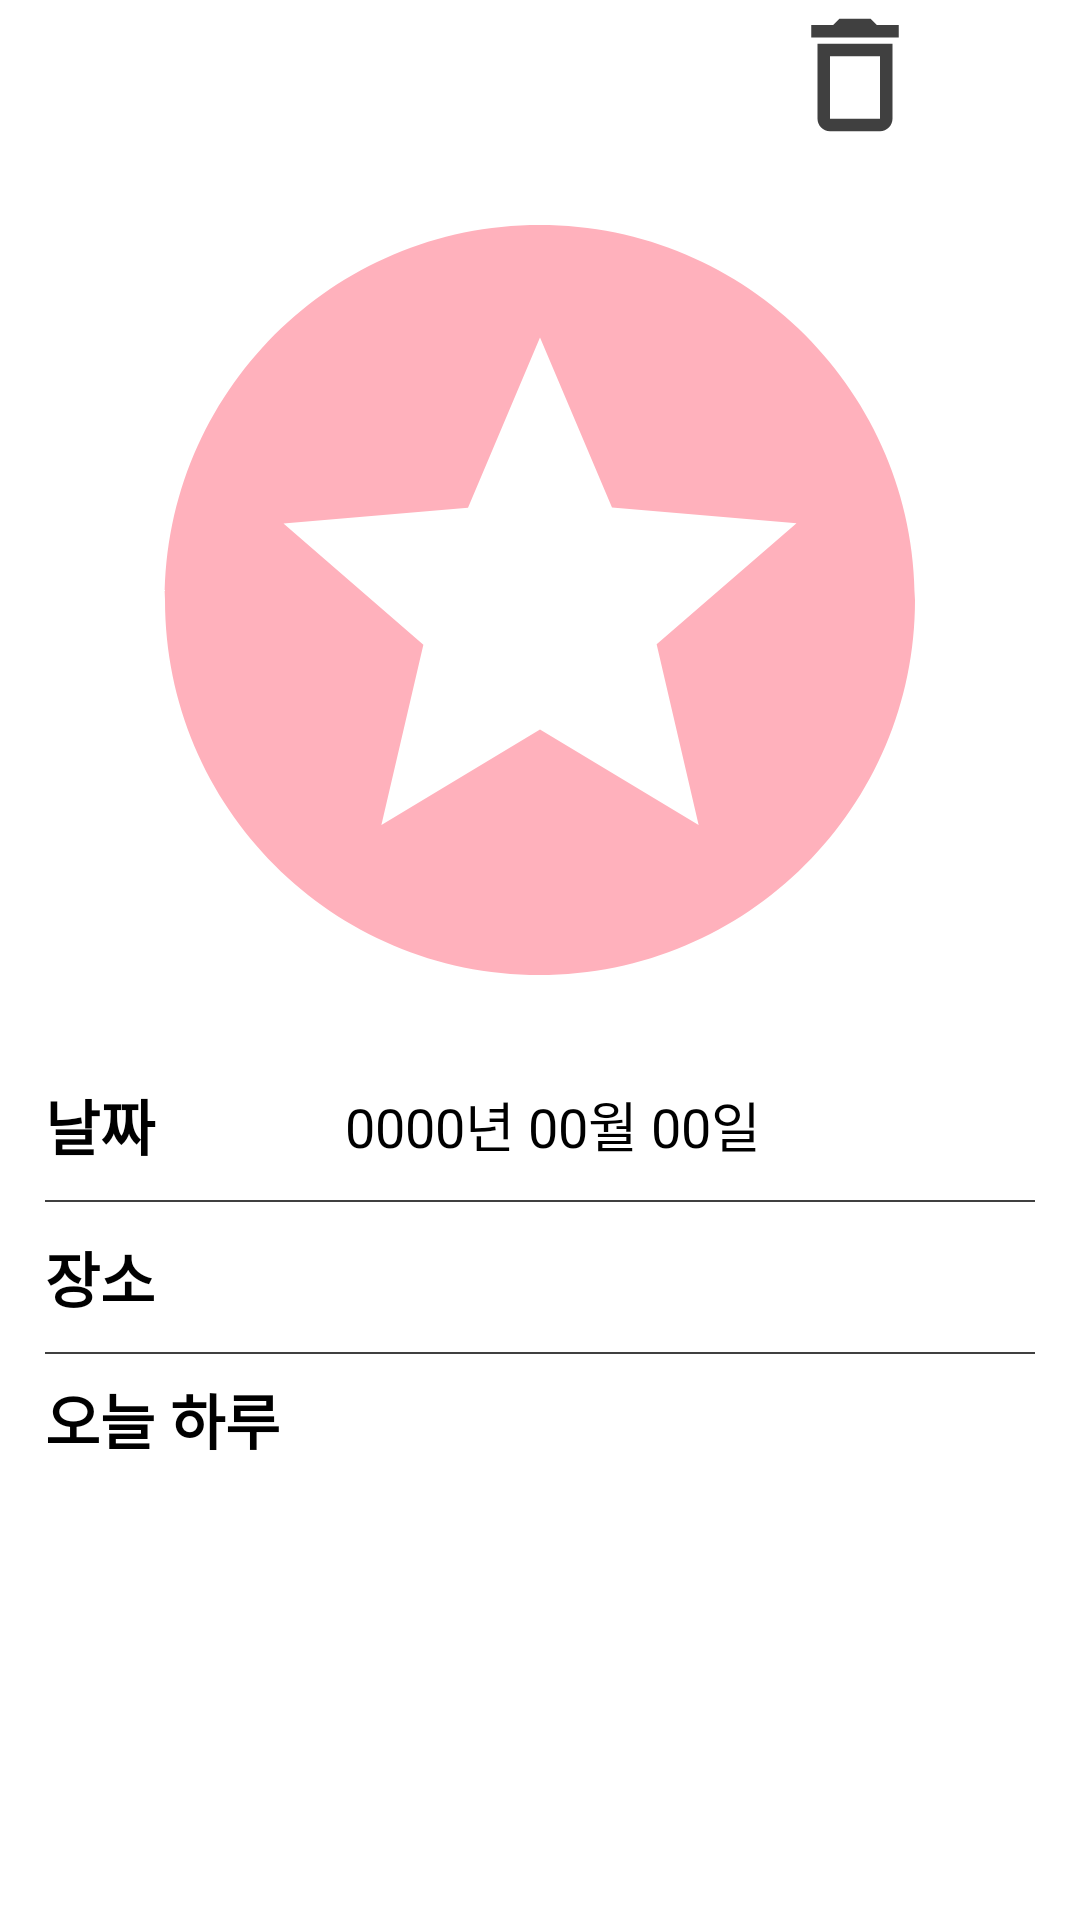

Icon click points for this 1080×1920 phone screenshot, format (x=x, y=y):
delete: (x=855, y=75)
